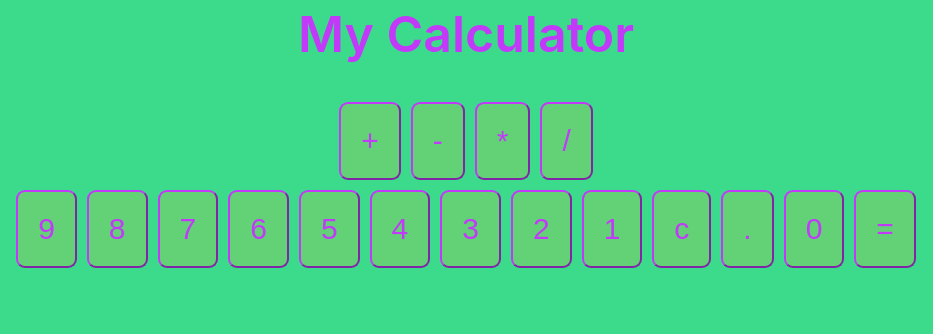
Test: should display 3 when the users enters 6 / 2
The width and height of the screenshot is (933, 334).
Click the button "6": [259, 229] box x1=228 y1=190 x2=289 y2=268
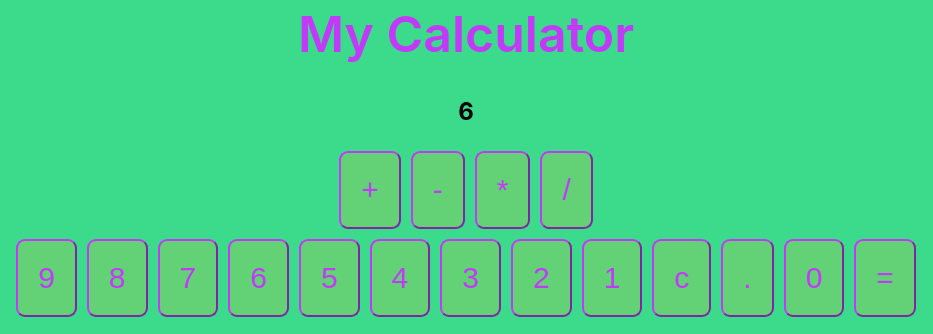
Click the button "/": [567, 190] box x1=540 y1=151 x2=593 y2=229
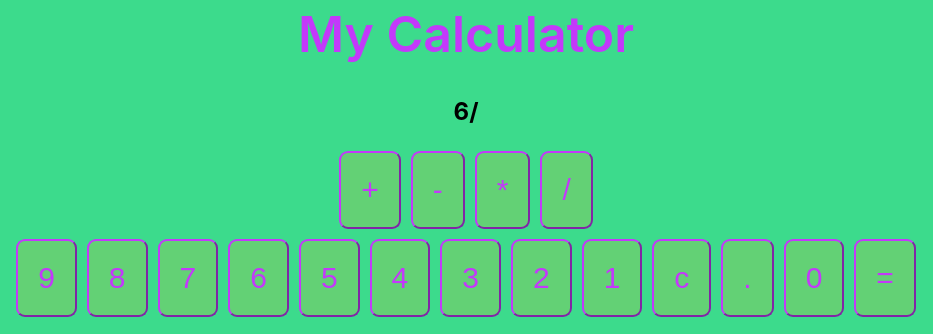
Click the button "2": [541, 278] box x1=511 y1=239 x2=572 y2=317
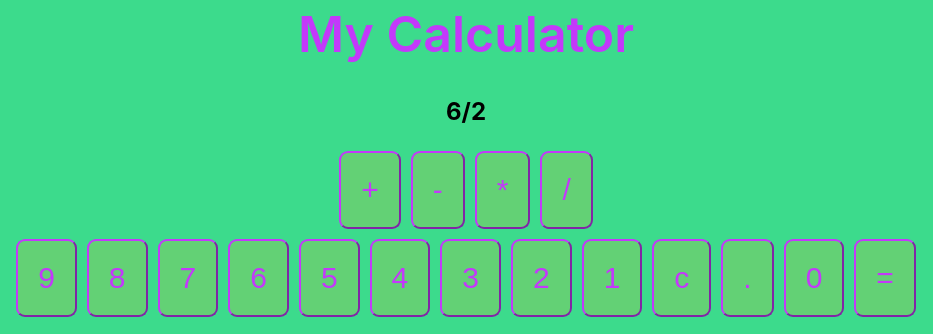
Click the button "=": [885, 278] box x1=854 y1=239 x2=916 y2=317
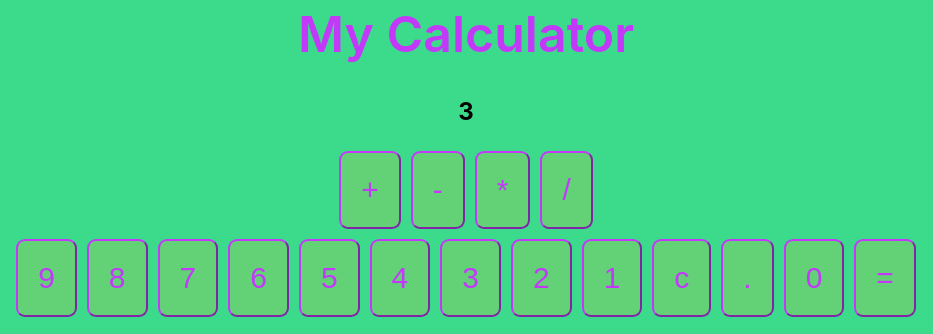
Expected: the heading with test id "display" reads "3", x1=458 y1=97 x2=474 y2=126
